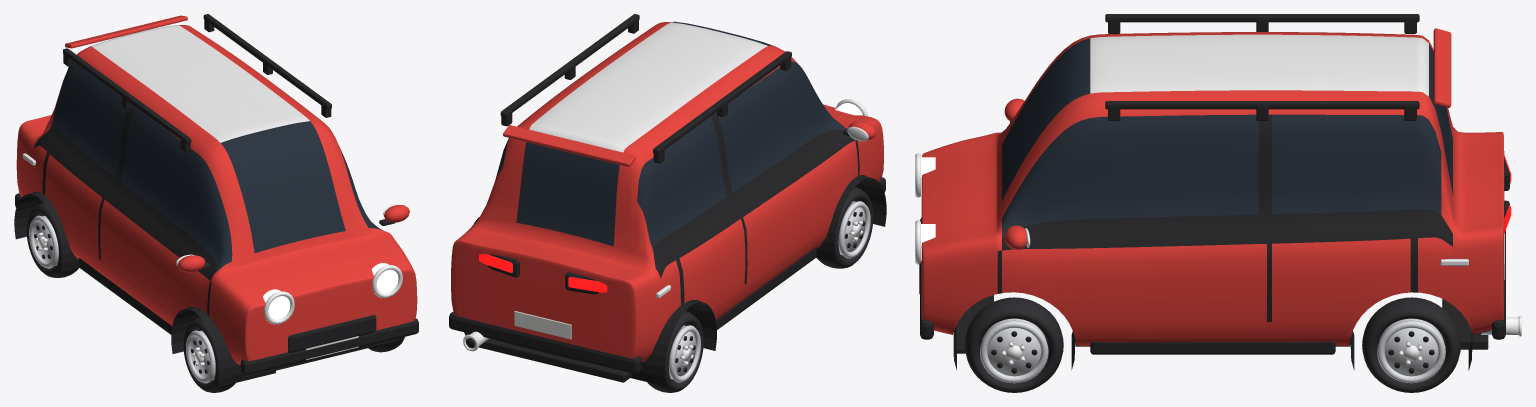
File: kubo_mid.glb
The picture shows the model from 3 angles, left to right: view 1: azimuth 30°, elevation 25°; view 2: azimuth 150°, elevation 25°; view 3: azimuth 270°, elevation 25°; orthographic projection. The views are drawn at different scales.
Parts seen in each view (by area): view 1: body, wheel_rr, wheel_fr; view 2: body, wheel_fr, wheel_rr; view 3: body, wheel_fl, wheel_rl.
Boxes of the visible parts, x1=… form: body: x1=14, y1=14, x2=418, y2=386; wheel_rr: x1=26, y1=202, x2=78, y2=277; wheel_fr: x1=183, y1=317, x2=235, y2=392; body: x1=449, y1=14, x2=886, y2=386; wheel_fr: x1=817, y1=187, x2=873, y2=268; wheel_rr: x1=647, y1=311, x2=703, y2=392; body: x1=915, y1=14, x2=1521, y2=370; wheel_fl: x1=965, y1=297, x2=1063, y2=392; wheel_rl: x1=1362, y1=297, x2=1460, y2=392.
Bounding box in the file's own units: 1.91 × 1.75 × 3.43.
